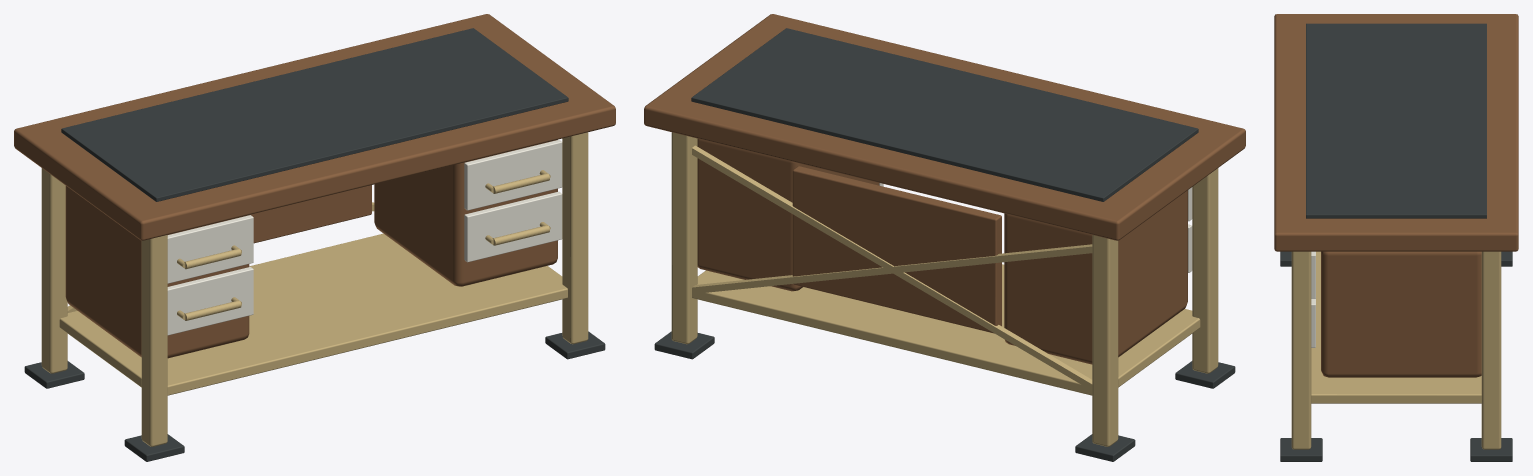
The model's file is city-courthouse-and-records-office-city-courthouse-and-74951376__30958.glb.
The picture shows the model from 3 angles, left to right: view 1: azimuth 30°, elevation 25°; view 2: azimuth 150°, elevation 25°; view 3: azimuth 270°, elevation 25°; orthographic projection. The views are drawn at different scales.
Parts seen in each view (by area): view 1: city-courthouse-and-records-office-clerk-desk; view 2: city-courthouse-and-records-office-clerk-desk; view 3: city-courthouse-and-records-office-clerk-desk.
Part boxes in pixels (x1=…): city-courthouse-and-records-office-clerk-desk: x1=14, y1=14, x2=615, y2=461; city-courthouse-and-records-office-clerk-desk: x1=644, y1=14, x2=1245, y2=461; city-courthouse-and-records-office-clerk-desk: x1=1274, y1=14, x2=1518, y2=461.
Size of the model in its own units: 1.73 by 0.8651 by 0.81.
